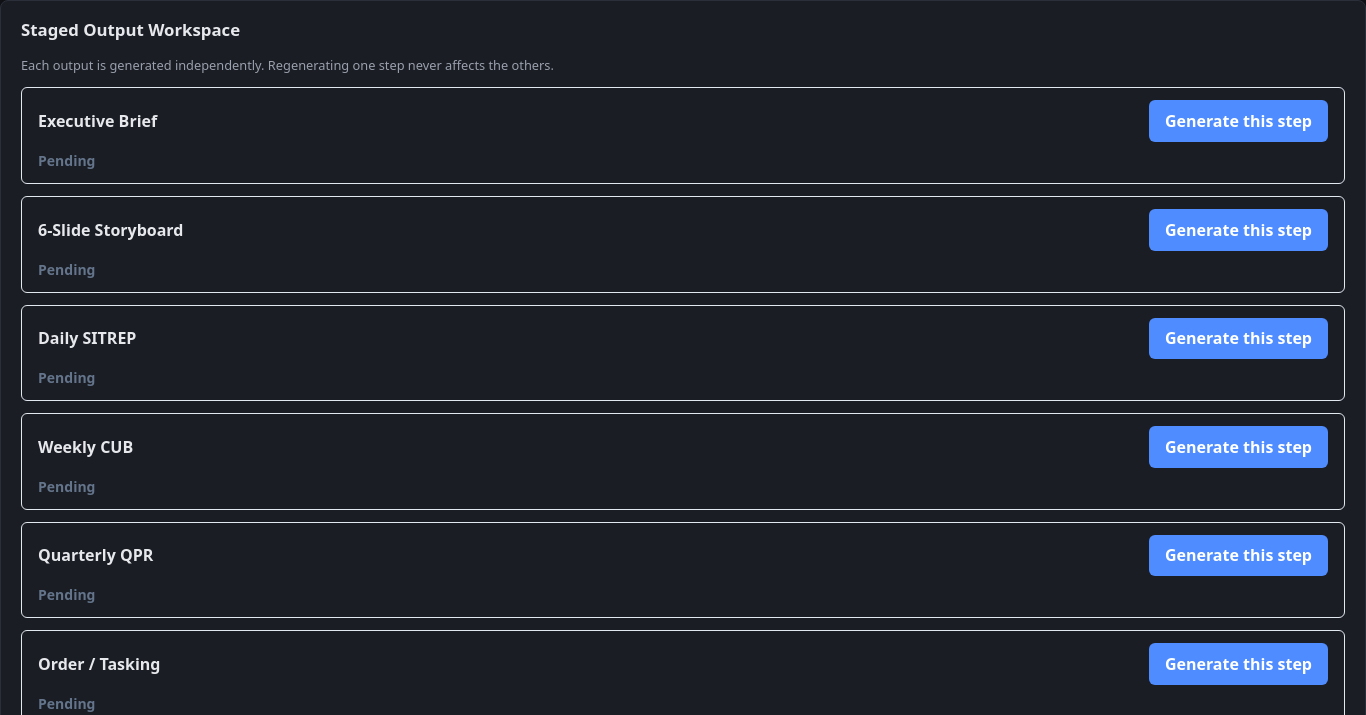
Test case: StagedOutputWorkspace › marks a truncated artifact as Truncated
The image size is (1366, 715).
Step 1. Click the button with test id "regenerate-storyboard" → [1238, 230], box [1149,209,1328,250]
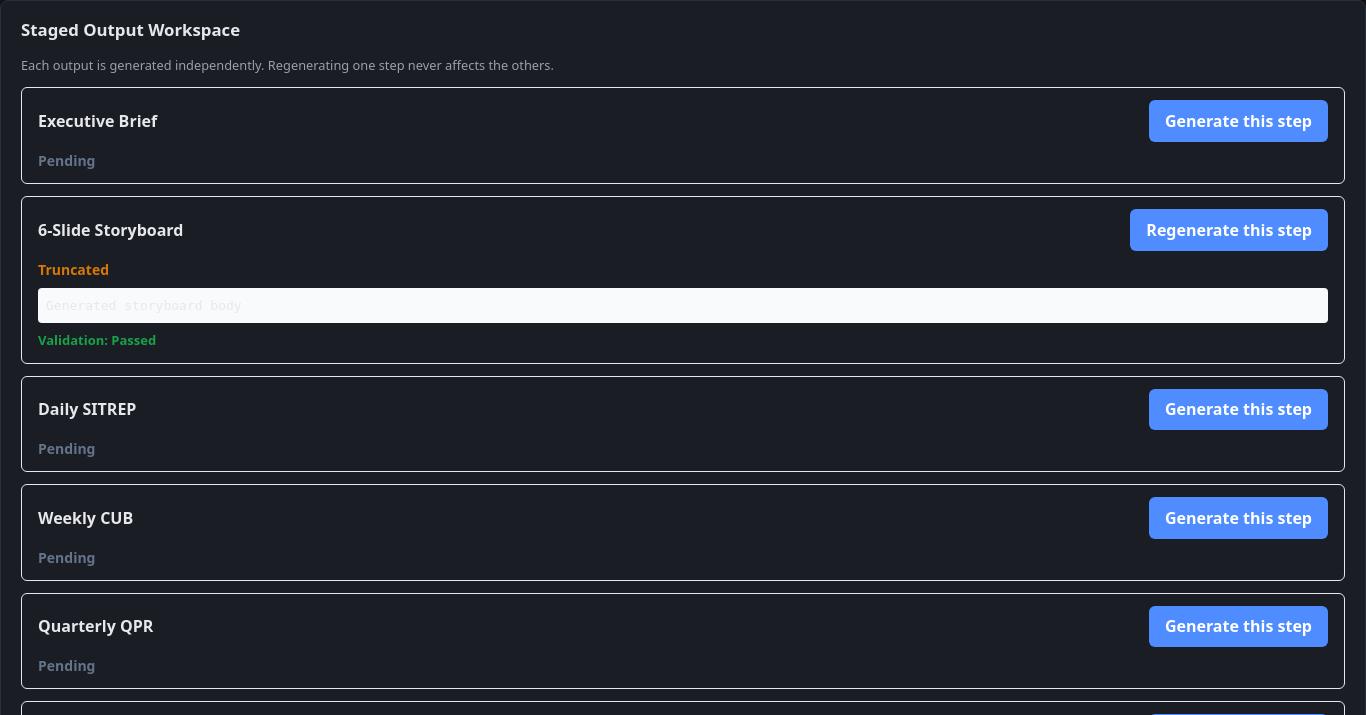
Now the message with test id "status-storyboard" reads "Truncated", box [38,260,109,278]
